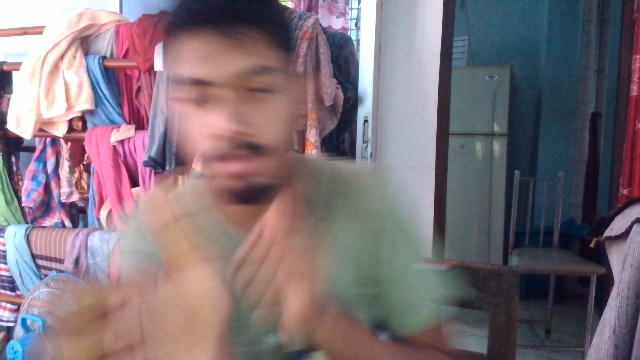yes: (19, 189, 231, 360)
